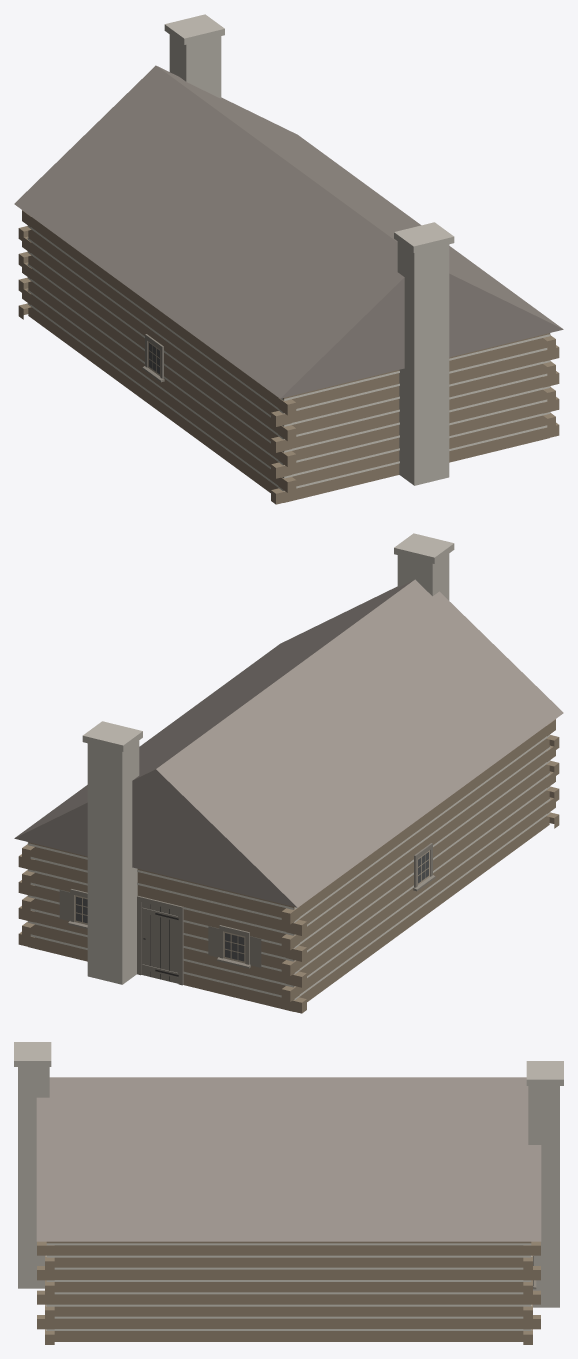
File: brown_boarding_house__documented_1835.glb
3 renders of one model, top to bottom at view 1: azimuth 30°, elevation 25°; view 2: azimuth 150°, elevation 25°; view 3: azimuth 270°, elevation 25°, orthographic. The views are drawn at different scales.
Visible parts, largest first — view 1: brown_boarding_house__documented_1835; view 2: brown_boarding_house__documented_1835; view 3: brown_boarding_house__documented_1835.
Boxes of the visible parts, left/top/right/bottom form: brown_boarding_house__documented_1835: left=14, top=14, right=563, bottom=504; brown_boarding_house__documented_1835: left=14, top=533, right=563, bottom=1013; brown_boarding_house__documented_1835: left=14, top=1042, right=563, bottom=1344.
Bounding box in the file's own units: 7.82 × 6.36 × 13.83.
